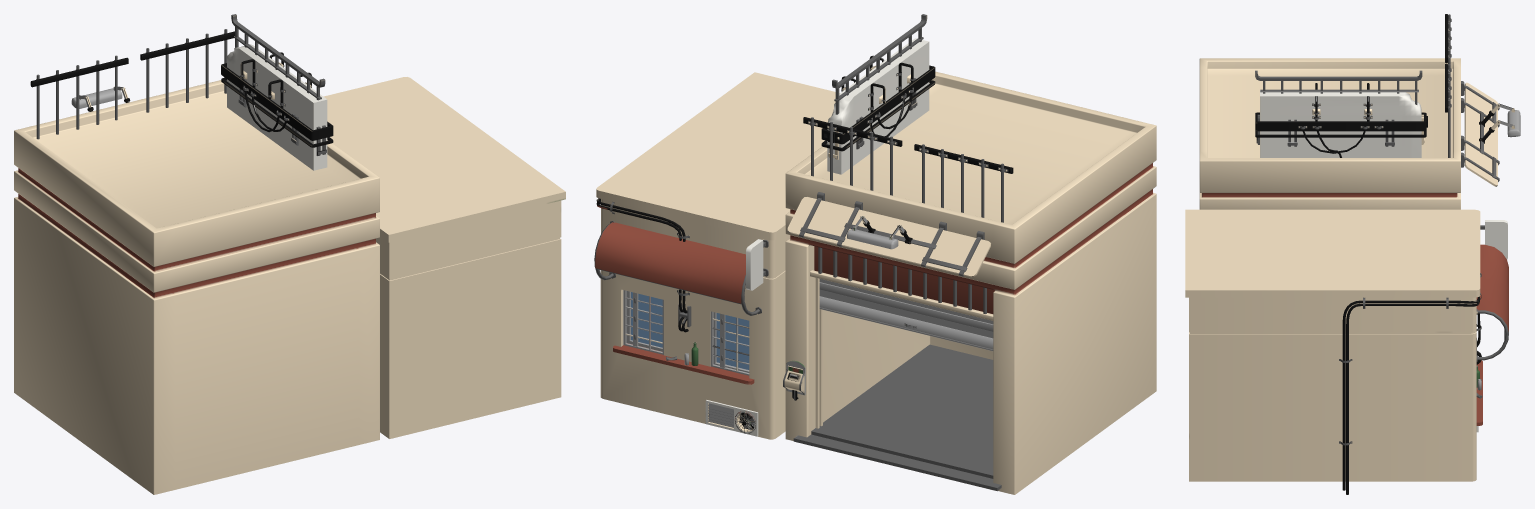
File: buildingAsset_Spawn.fbx
3 views of the same model, side by side, from view 1: azimuth 30°, elevation 25°; view 2: azimuth 150°, elevation 25°; view 3: azimuth 270°, elevation 25° (orthographic). The views are drawn at different scales.
Parts seen in each view (by area): view 1: Cube.9713; view 2: Cube.9713; view 3: Cube.9713.
Boxes of the visible parts, x1,y1,x2,y2 form: Cube.9713: (14,14,565,494); Cube.9713: (594,14,1156,494); Cube.9713: (1185,14,1520,494).
Size of the model in its own units: 1.19 by 0.9938 by 0.9146.
1 material, 1 textured.
